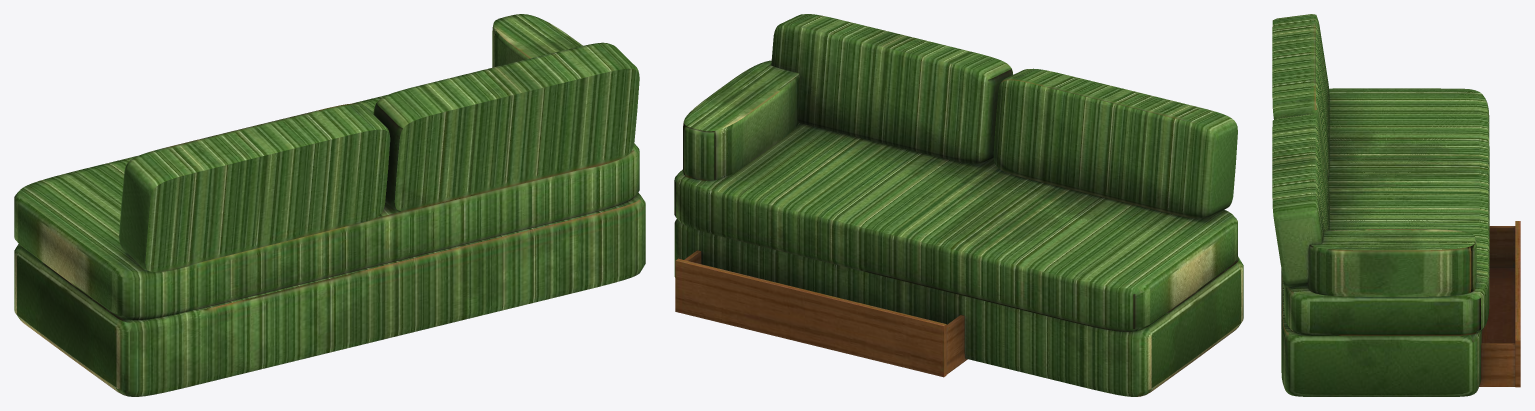
The model's file is sofa_tahta_web.glb.
3 views of the same model, side by side, from view 1: azimuth 30°, elevation 25°; view 2: azimuth 150°, elevation 25°; view 3: azimuth 270°, elevation 25° (orthographic). The views are drawn at different scales.
Parts seen in each view (by area): view 1: SofaTahta_Body; view 2: SofaTahta_Body, Drawer_Mesh; view 3: SofaTahta_Body, Drawer_Mesh.
Boxes of the visible parts, box(x1,y1,x2,y2) form: SofaTahta_Body: box(14, 14, 645, 396); SofaTahta_Body: box(674, 14, 1243, 396); Drawer_Mesh: box(675, 250, 967, 377); SofaTahta_Body: box(1272, 14, 1489, 396); Drawer_Mesh: box(1479, 221, 1520, 387).
Size of the model in its own units: 1.95 by 0.8059 by 0.9639.
1 material, 1 textured.
